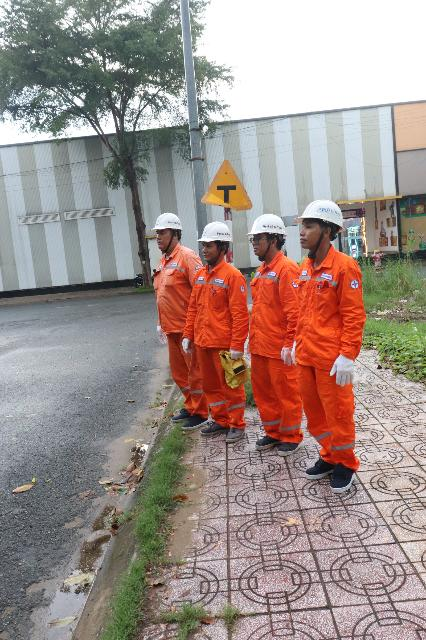gloves: (324, 349, 362, 395), (148, 320, 174, 348), (274, 343, 295, 366), (225, 343, 245, 366), (180, 332, 196, 355)
helmet: (298, 192, 343, 232), (195, 214, 237, 251), (245, 211, 285, 243), (149, 211, 185, 235)
shoes: (319, 459, 362, 497), (286, 447, 330, 483), (167, 392, 192, 426), (275, 432, 302, 460), (180, 406, 207, 433), (252, 428, 274, 454), (218, 426, 250, 442), (202, 420, 224, 438)
